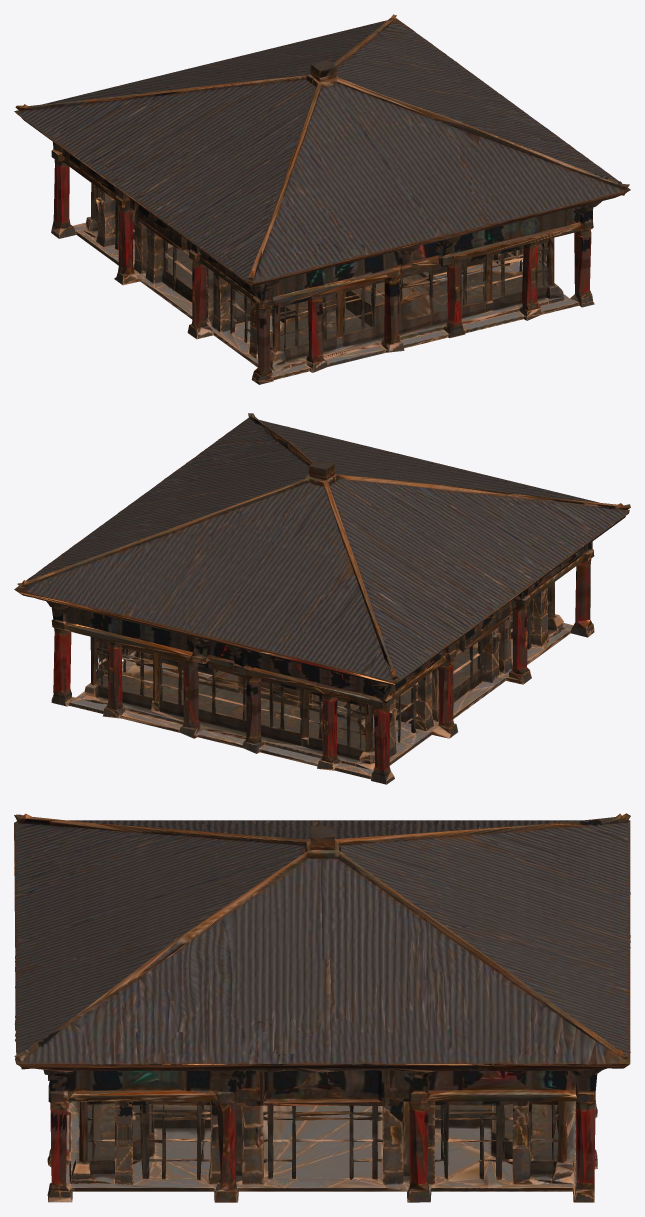
3 renders of one model, top to bottom at view 1: azimuth 30°, elevation 25°; view 2: azimuth 150°, elevation 25°; view 3: azimuth 270°, elevation 25°, orthographic. The views are drawn at different scales.
Visible parts, largest first — view 1: o06; view 2: o06; view 3: o06.
Part boxes in pixels (x1,y1,x2,y2): o06: (14, 14, 630, 384); o06: (14, 413, 630, 784); o06: (14, 813, 630, 1202).
Bounding box in the file's own units: 43.59 × 22 × 46.46.
1 material, 1 textured.
